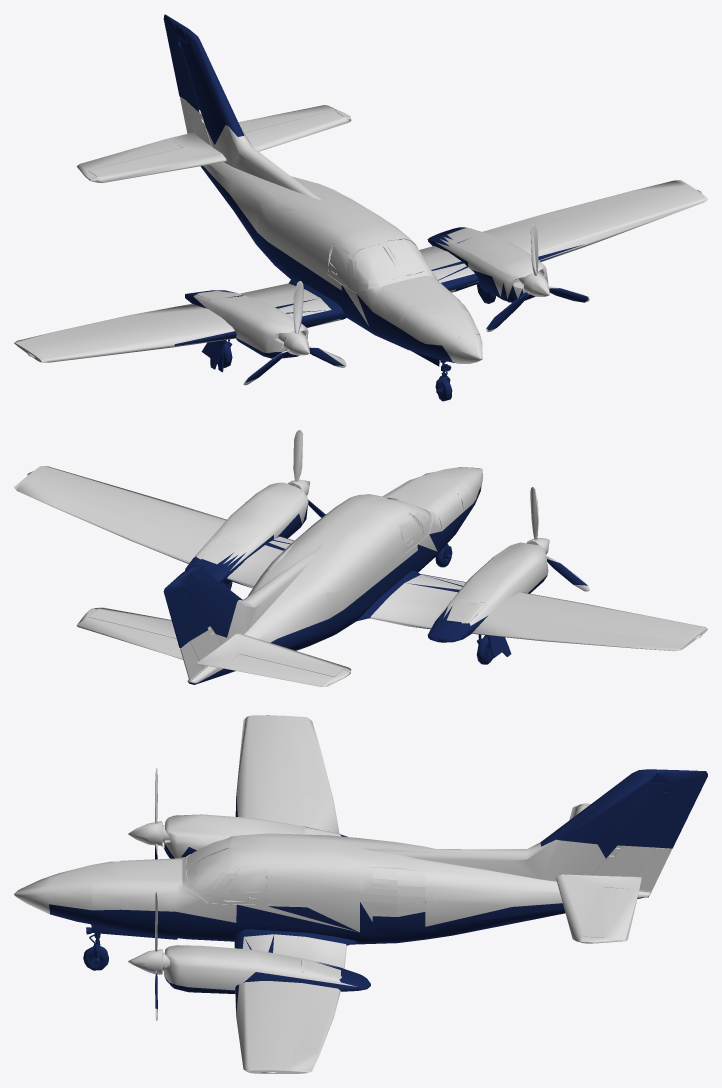
The model's file is cessna-402.livery-v1.lod0.glb.
3 views of the same model, one above another, from view 1: azimuth 30°, elevation 25°; view 2: azimuth 150°, elevation 25°; view 3: azimuth 270°, elevation 25° (orthographic). The views are drawn at different scales.
Visible parts, largest first — view 1: Object_10; view 2: Object_10; view 3: Object_10.
Part boxes in pixels (x1,y1,x2,y2): Object_10: (14, 14, 707, 401); Object_10: (14, 430, 707, 686); Object_10: (14, 715, 707, 1073).
Size of the model in its own units: 12.76 by 3.33 by 10.45.
